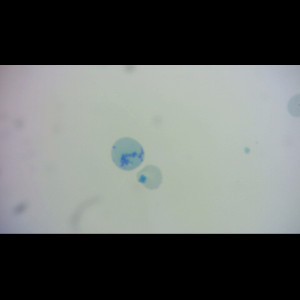aggregate reticulocyte: (110, 136, 146, 171)
erythrocyte: (136, 164, 163, 192)
